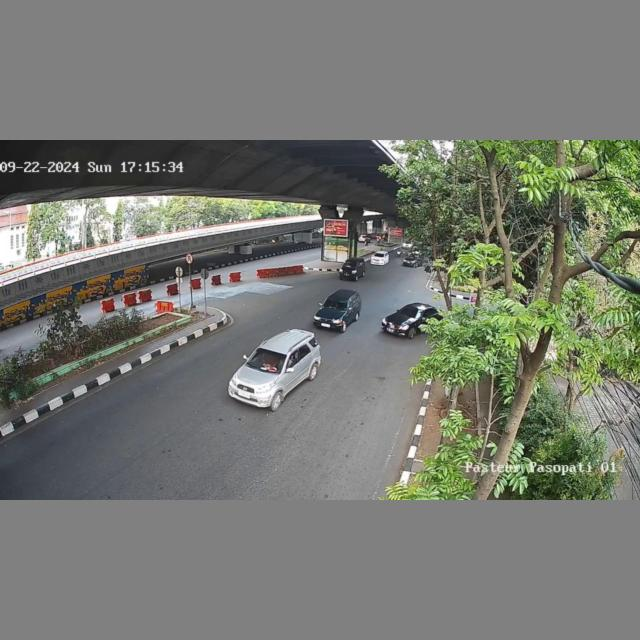windshield: (246, 347, 289, 374), (323, 298, 348, 313)
